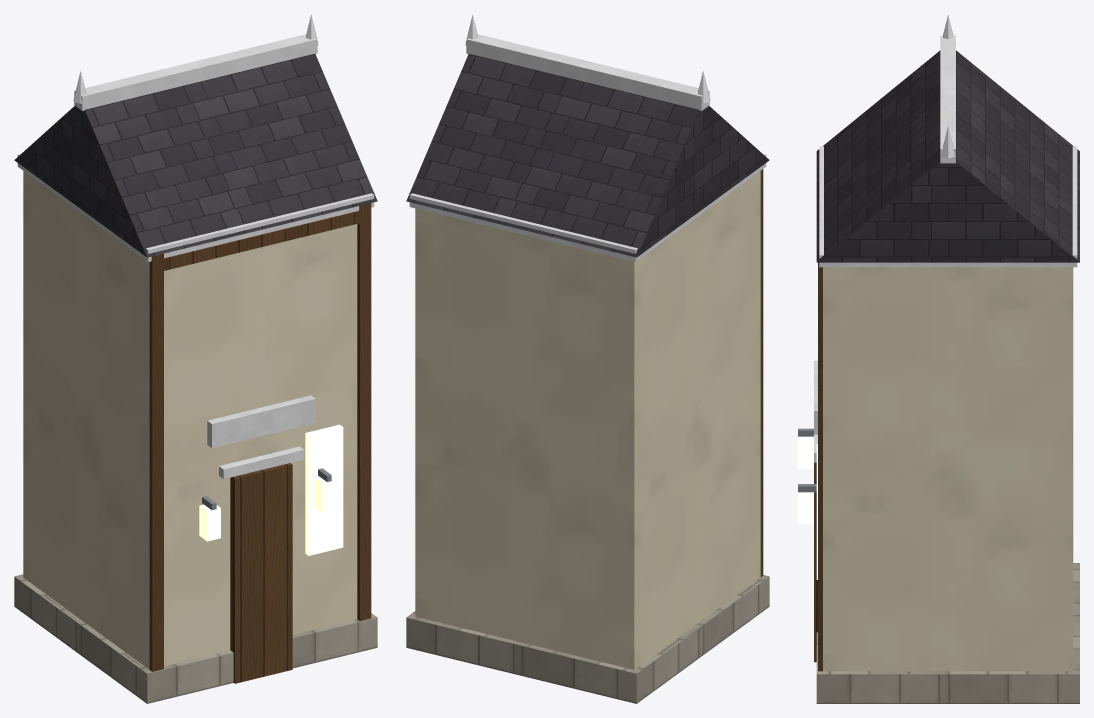
The model's file is category.nft.t5.glb.
3 views of the same model, side by side, from view 1: azimuth 30°, elevation 25°; view 2: azimuth 150°, elevation 25°; view 3: azimuth 270°, elevation 25° (orthographic).
Visible parts, largest first — view 1: building.category.nft.t5; view 2: building.category.nft.t5; view 3: building.category.nft.t5.
Boxes of the visible parts, x1,y1,x2,y2 form: building.category.nft.t5: (14,14,377,703); building.category.nft.t5: (406,14,769,703); building.category.nft.t5: (798,14,1079,703).
Bounding box in the file's own units: 2.12 × 4.85 × 2.14.
8 materials, 7 textured.
